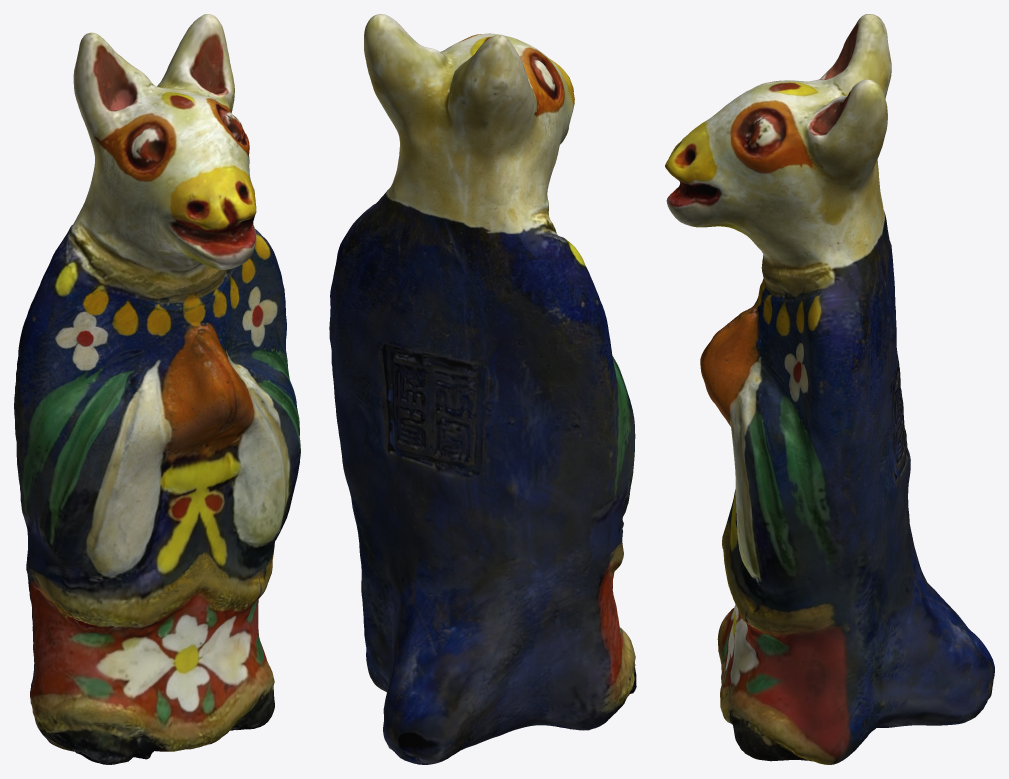
The picture shows the model from 3 angles, left to right: view 1: azimuth 30°, elevation 25°; view 2: azimuth 150°, elevation 25°; view 3: azimuth 270°, elevation 25°; orthographic projection. The views are drawn at different scales.
Bounding box in the file's own units: 0.2445 × 0.591 × 0.2568.
1 material, 1 textured.
